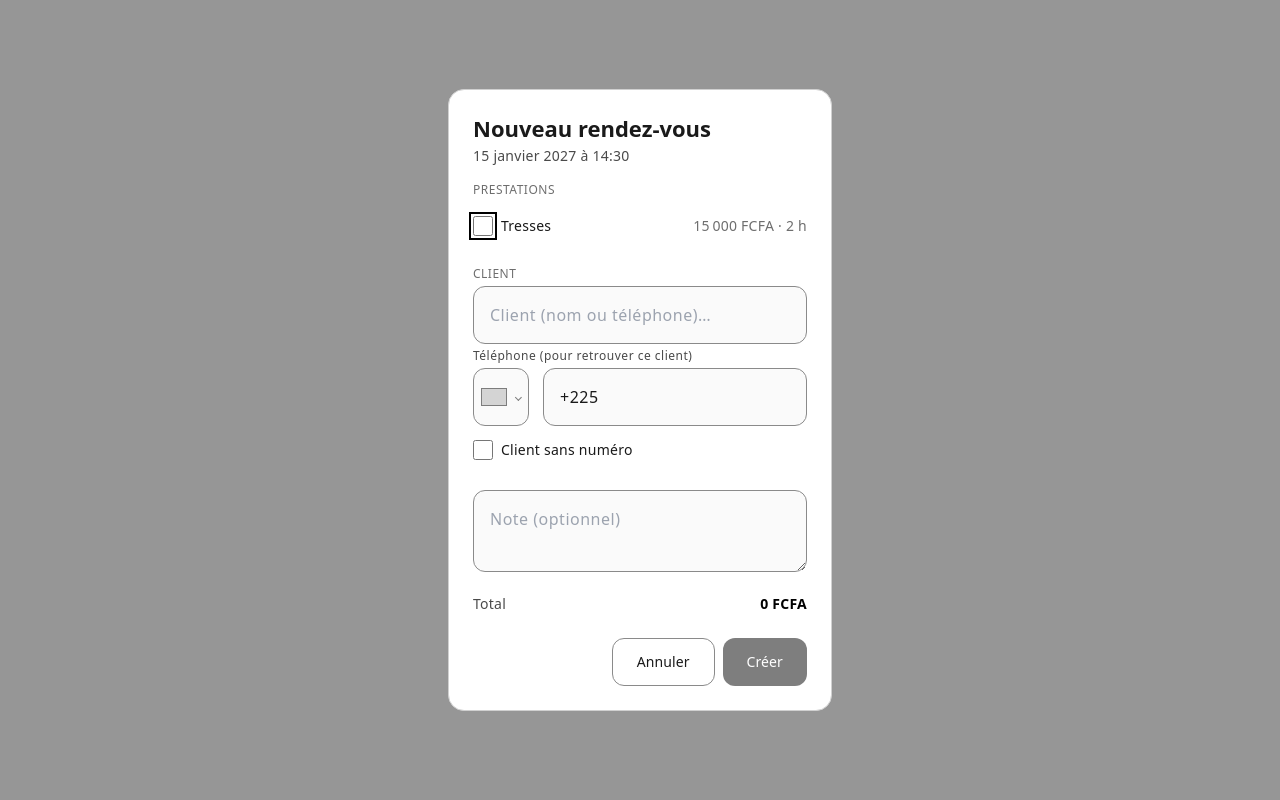
Scenario: ManualBookingDialog — the phone crosses as E.164 › a server invalid_phone names the fault — never « Création impossible »
Step 1. Type "Awa" into the field named "Rechercher ou nommer le client" → [640, 315], box top-left (473, 286), bottom-right (807, 344)
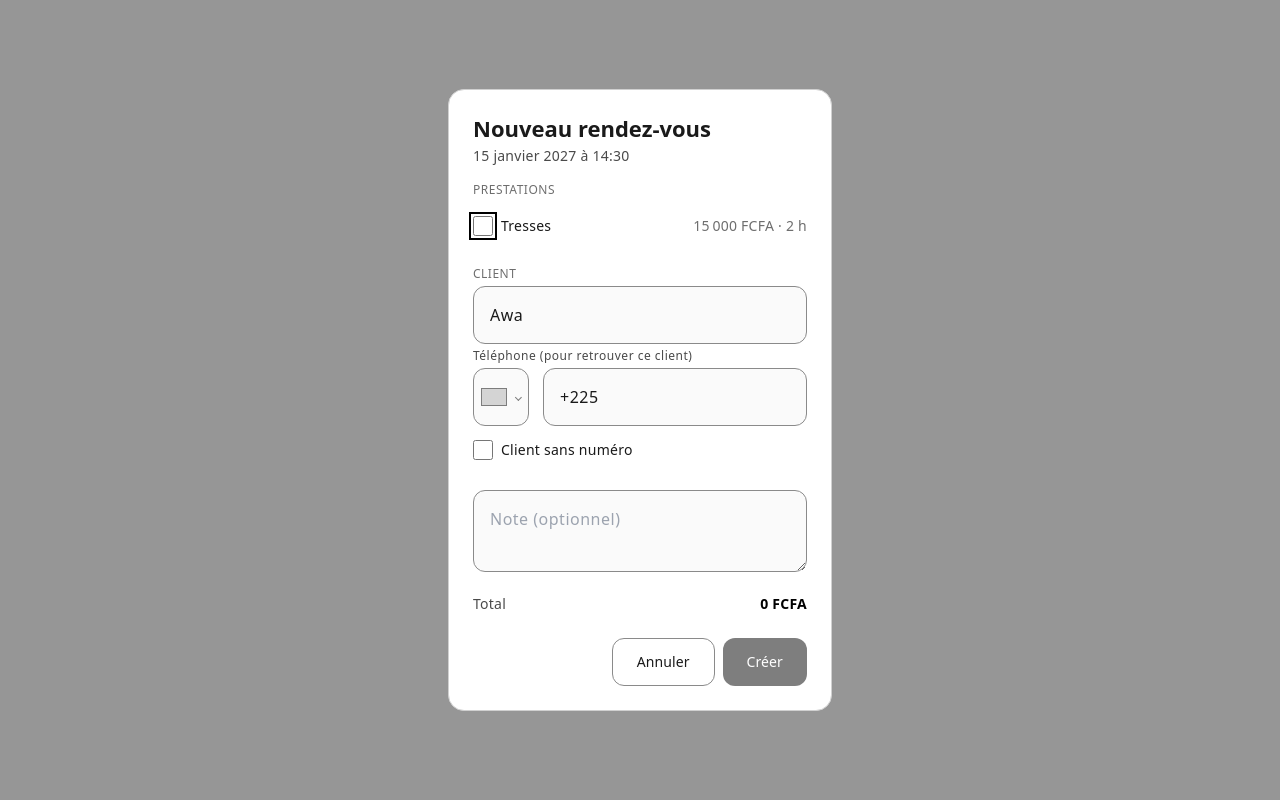
Step 2. Click the checkbox labelled "Tresses 15 000 FCFA · 2 h" → [483, 226], box top-left (473, 216), bottom-right (493, 236)
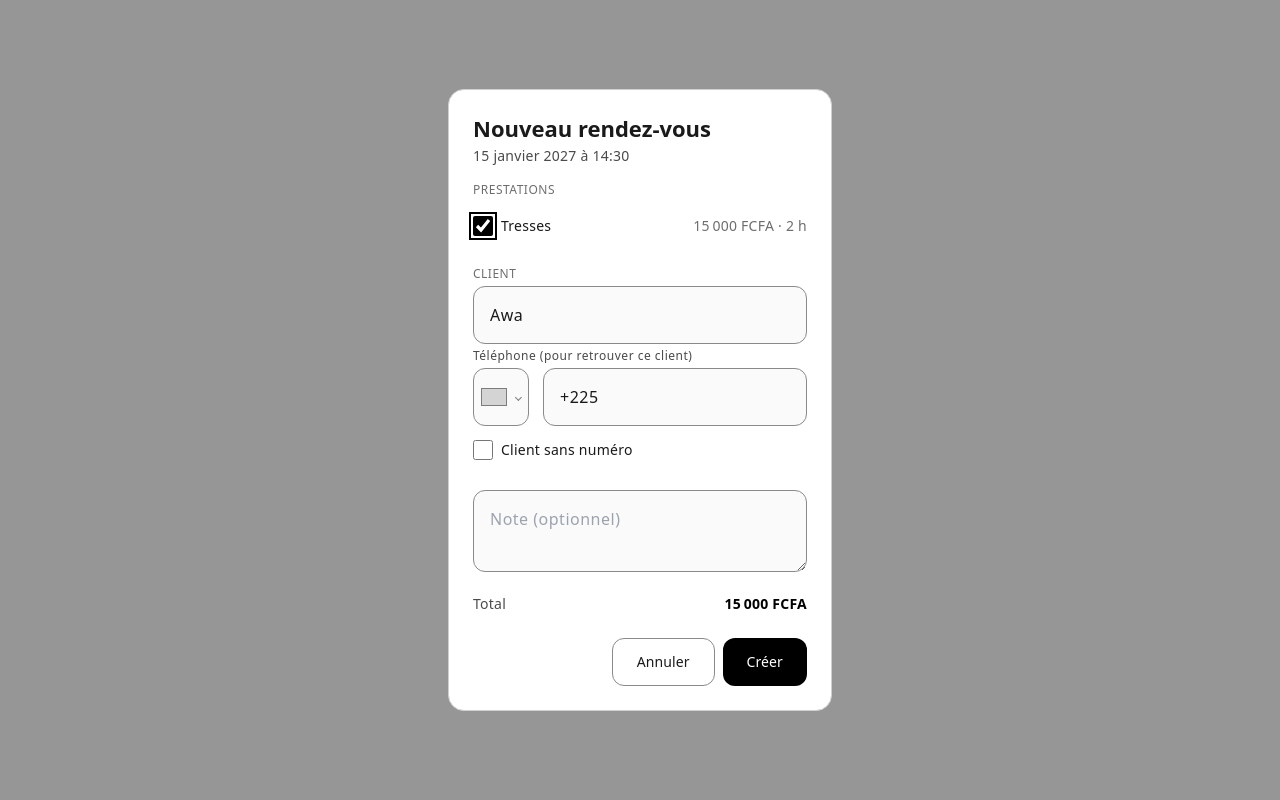
Step 3. Replace the text in the field labelled "Téléphone (pour retrouver ce client)" with "+2250708091011" → [675, 397], box top-left (543, 368), bottom-right (807, 426)
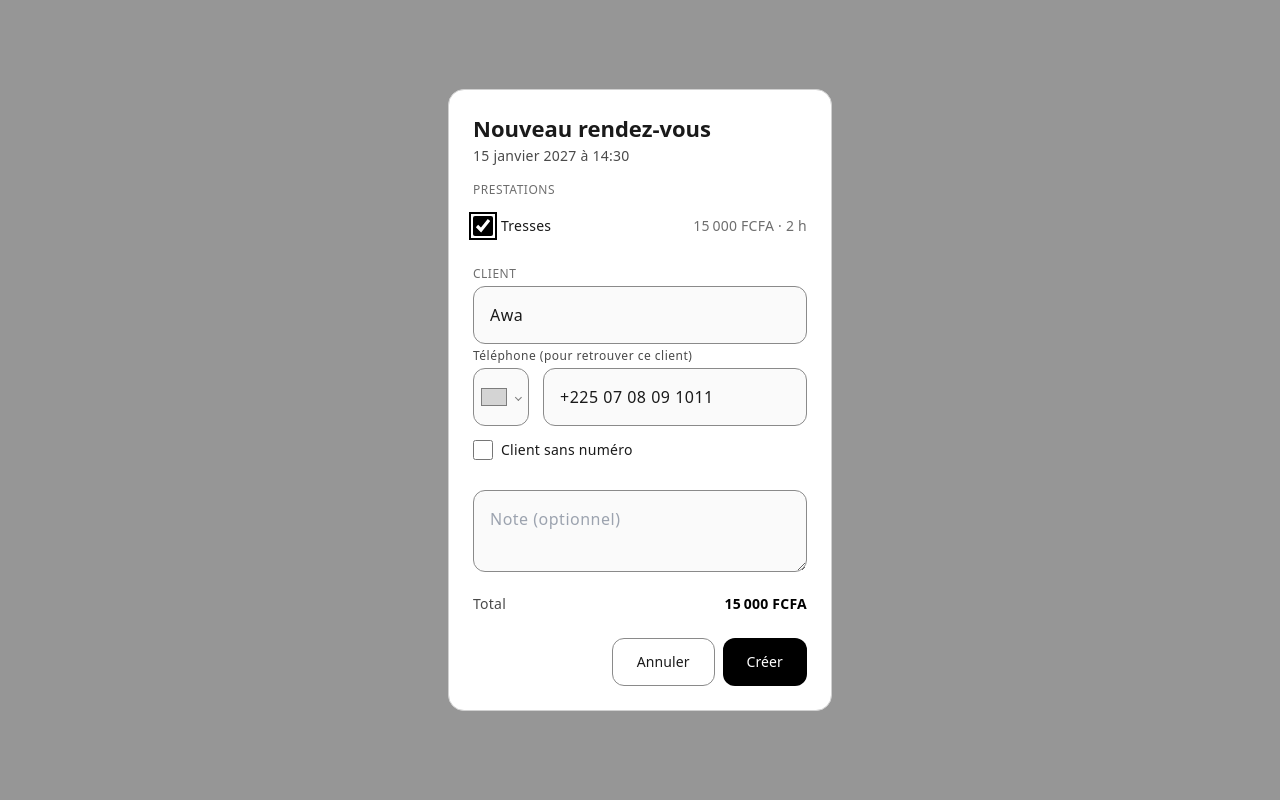
Step 4. Click the button "Créer" → [765, 662], box top-left (723, 638), bottom-right (807, 686)
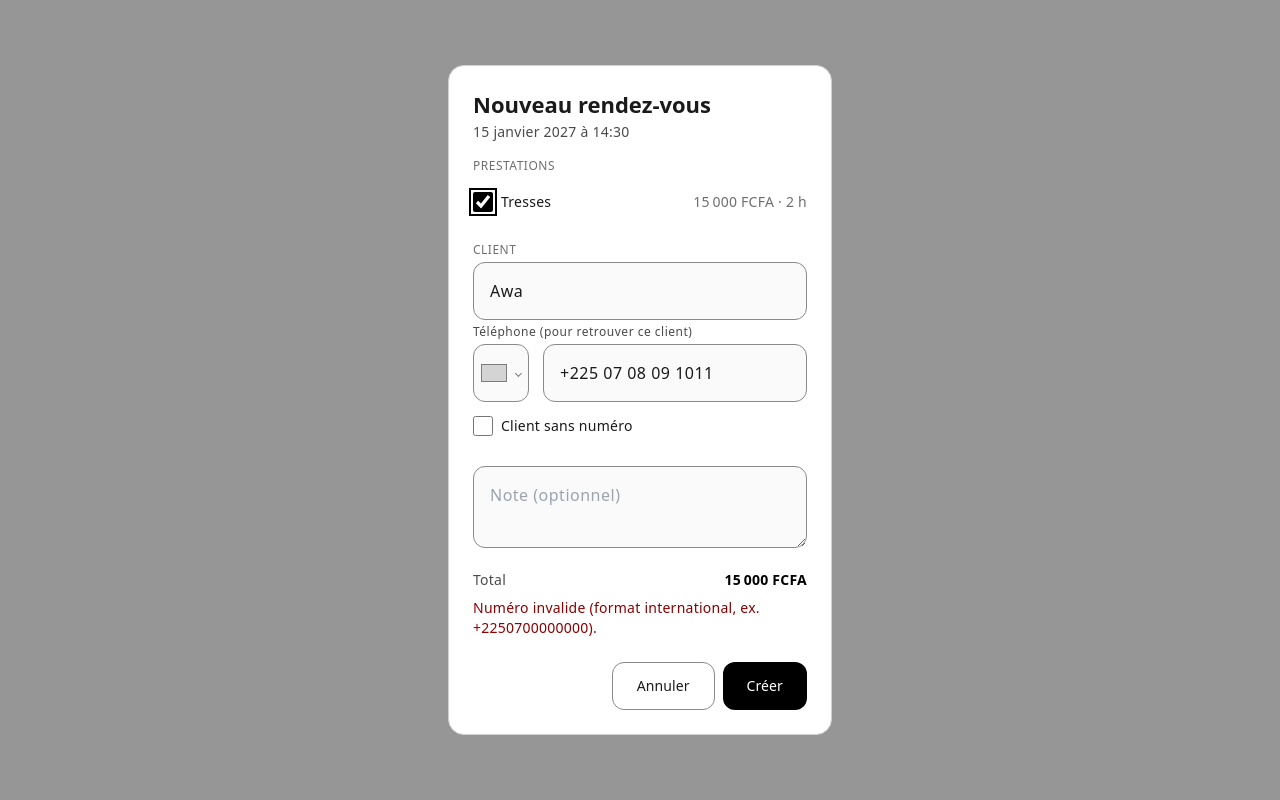
Expected: the text "Numéro invalide (format international, ex. +2250700000000)." is shown, top-left (473, 598), bottom-right (807, 638)
